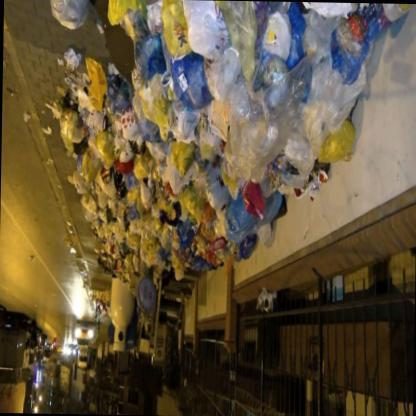Garbage: (192, 0, 354, 156), (102, 103, 208, 278), (64, 57, 158, 219), (102, 3, 235, 109), (240, 89, 322, 198), (193, 142, 271, 248), (168, 188, 232, 278), (343, 4, 405, 34), (51, 0, 88, 29)
